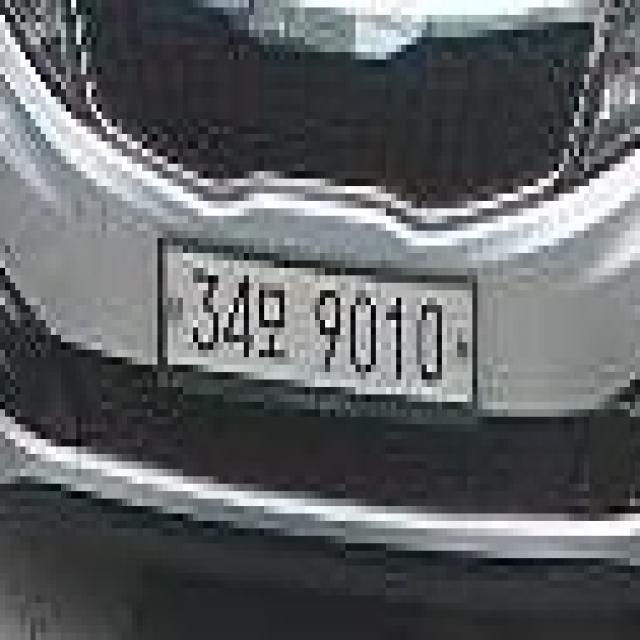plat: (156, 236, 478, 405)
